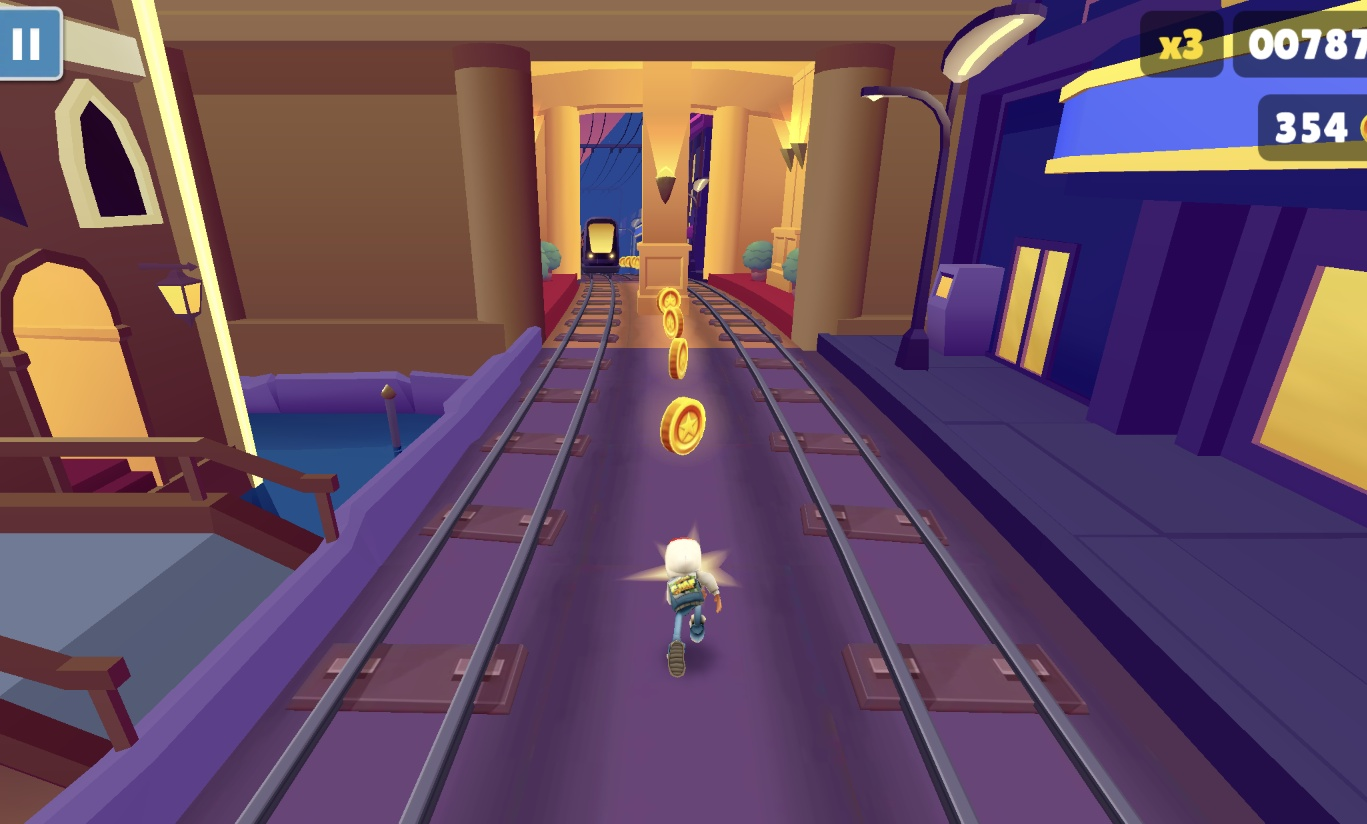pillar: (640, 62, 695, 317)
train: (579, 217, 623, 278)
